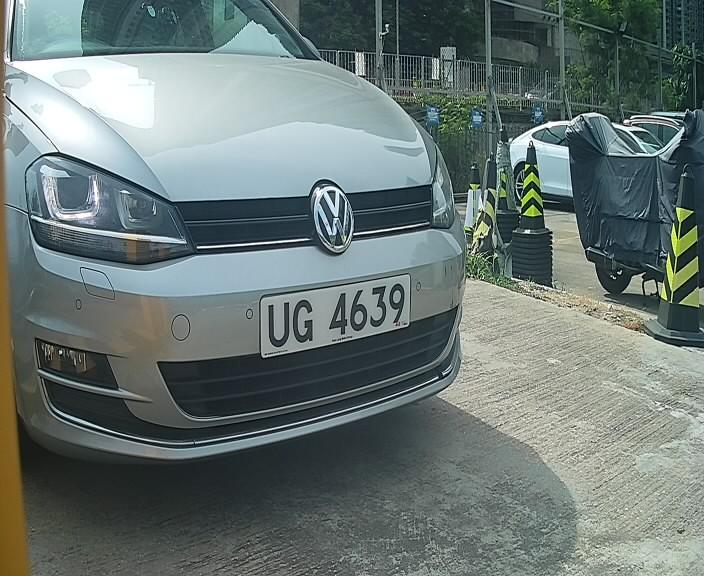License Plate: (249, 268, 415, 358)
